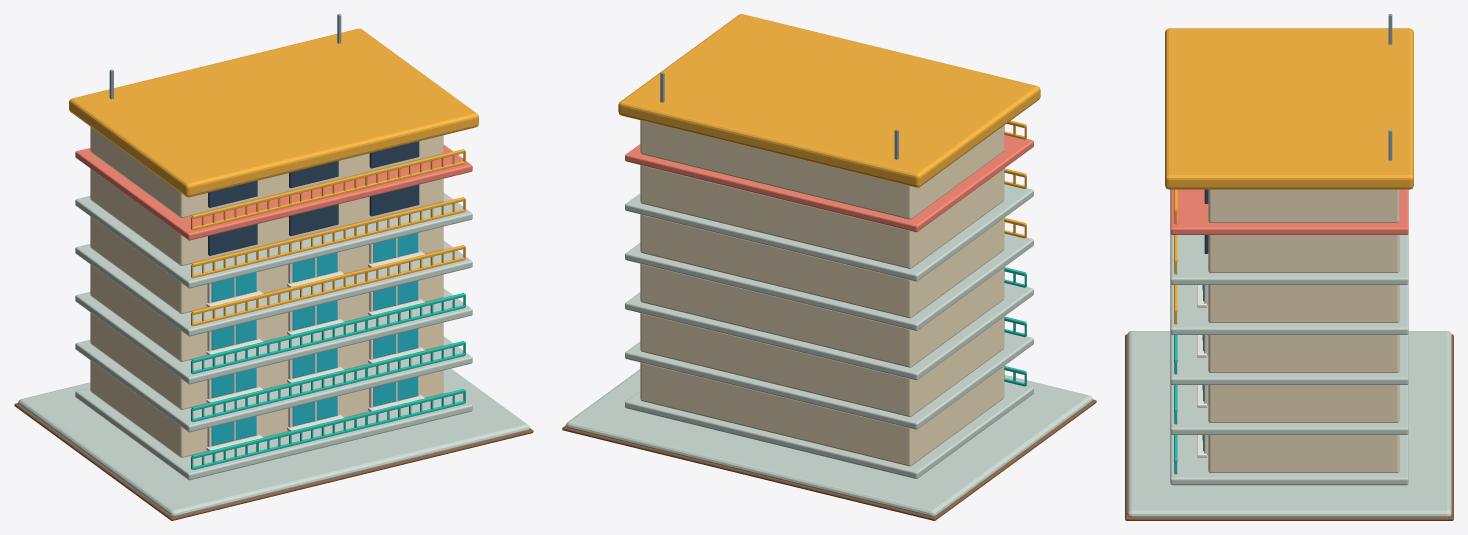
The model's file is SM_Building_Stage3.fbx.
3 views of the same model, side by side, from view 1: azimuth 30°, elevation 25°; view 2: azimuth 150°, elevation 25°; view 3: azimuth 270°, elevation 25° (orthographic). The views are drawn at different scales.
Visible parts, largest first — view 1: Roof parapet, Beveled site foundation.003, Topped floor slab, Topped floor slab.001, Topped floor slab.002, Topped floor slab.003, Topped floor slab.004, Topped floor slab.005, Partial masonry wall.004, Partial masonry wall.001, Partial masonry wall, Partial masonry wall.002 (+33 smaller); view 2: Roof parapet, Beveled site foundation.003, Partial masonry wall.002, Partial masonry wall, Partial masonry wall.003, Partial masonry wall.004, Partial masonry wall.001, Partial masonry wall.005, Topped floor slab.004, Topped floor slab, Topped floor slab.001, Topped floor slab.002 (+3 smaller); view 3: Roof parapet, Beveled site foundation.003, Partial masonry wall, Partial masonry wall.001, Partial masonry wall.002, Partial masonry wall.003, Partial masonry wall.004, Partial masonry wall.005, Topped floor slab, Topped floor slab.004, Topped floor slab.001, Topped floor slab.002 (+3 smaller).
Part boxes in pixels (x1=…): Roof parapet: x1=69, y1=28, x2=478, y2=197; Beveled site foundation.003: x1=18, y1=368, x2=529, y2=516; Topped floor slab: x1=75, y1=384, x2=472, y2=480; Topped floor slab.001: x1=75, y1=336, x2=472, y2=432; Topped floor slab.002: x1=75, y1=288, x2=472, y2=384; Topped floor slab.003: x1=75, y1=240, x2=472, y2=336; Topped floor slab.004: x1=75, y1=192, x2=472, y2=288; Topped floor slab.005: x1=75, y1=145, x2=472, y2=240; Partial masonry wall.004: x1=90, y1=168, x2=443, y2=265; Partial masonry wall.001: x1=90, y1=312, x2=443, y2=409; Partial masonry wall: x1=90, y1=360, x2=443, y2=457; Partial masonry wall.002: x1=90, y1=264, x2=443, y2=361; Roof parapet: x1=618, y1=14, x2=1040, y2=187; Beveled site foundation.003: x1=566, y1=369, x2=1092, y2=516; Partial masonry wall.002: x1=640, y1=263, x2=1004, y2=367; Partial masonry wall: x1=640, y1=362, x2=1004, y2=466; Partial masonry wall.003: x1=640, y1=214, x2=1004, y2=318; Partial masonry wall.004: x1=640, y1=165, x2=1004, y2=268; Partial masonry wall.001: x1=640, y1=313, x2=1004, y2=416; Partial masonry wall.005: x1=640, y1=120, x2=1004, y2=219; Topped floor slab.004: x1=625, y1=184, x2=1033, y2=281; Topped floor slab: x1=625, y1=381, x2=1033, y2=478; Topped floor slab.001: x1=625, y1=332, x2=1033, y2=429; Topped floor slab.002: x1=625, y1=283, x2=1033, y2=380; Roof parapet: x1=1165, y1=28, x2=1413, y2=189; Beveled site foundation.003: x1=1127, y1=331, x2=1451, y2=517; Partial masonry wall: x1=1208, y1=435, x2=1399, y2=472; Partial masonry wall.001: x1=1208, y1=385, x2=1399, y2=422; Partial masonry wall.002: x1=1208, y1=335, x2=1399, y2=372; Partial masonry wall.003: x1=1208, y1=285, x2=1399, y2=322; Partial masonry wall.004: x1=1208, y1=235, x2=1399, y2=272; Partial masonry wall.005: x1=1208, y1=189, x2=1399, y2=222; Topped floor slab: x1=1170, y1=433, x2=1408, y2=485; Topped floor slab.004: x1=1170, y1=233, x2=1408, y2=284; Topped floor slab.001: x1=1170, y1=383, x2=1408, y2=434; Topped floor slab.002: x1=1170, y1=333, x2=1408, y2=384.
Size of the model in its own units: 12.12 by 10.92 by 9.12.
